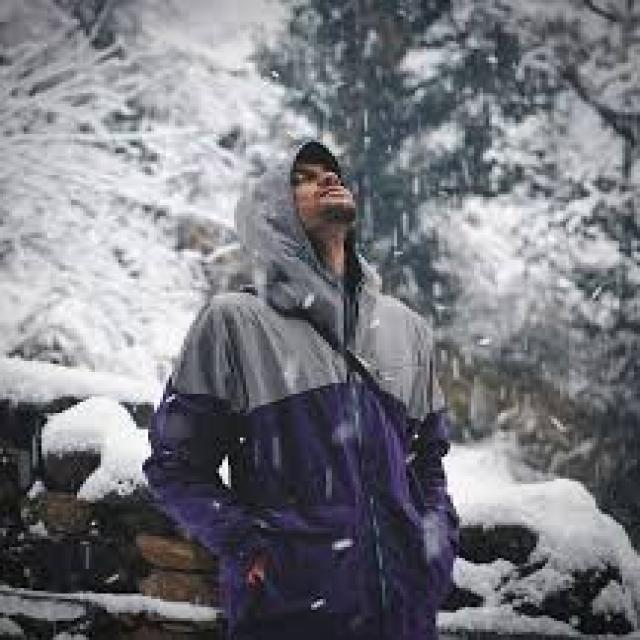Jacket: (129, 284, 497, 640)
